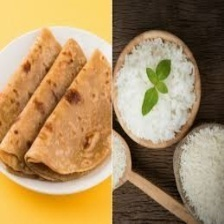rice: (114, 37, 194, 142)
